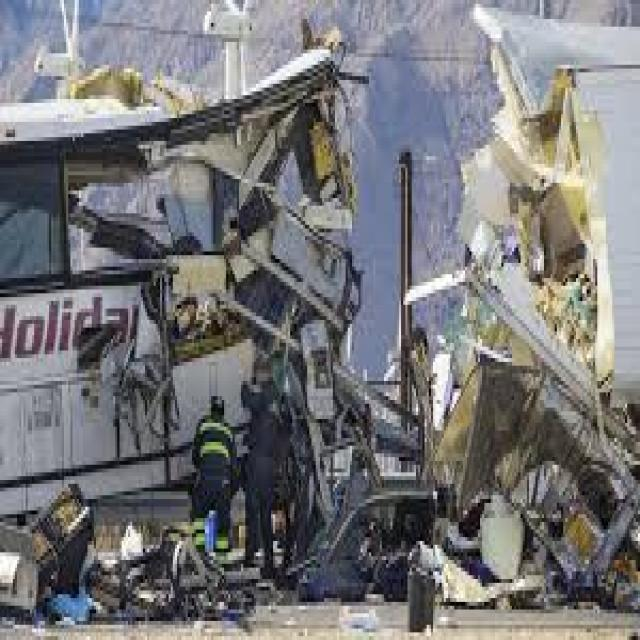accident: (4, 46, 640, 556)
